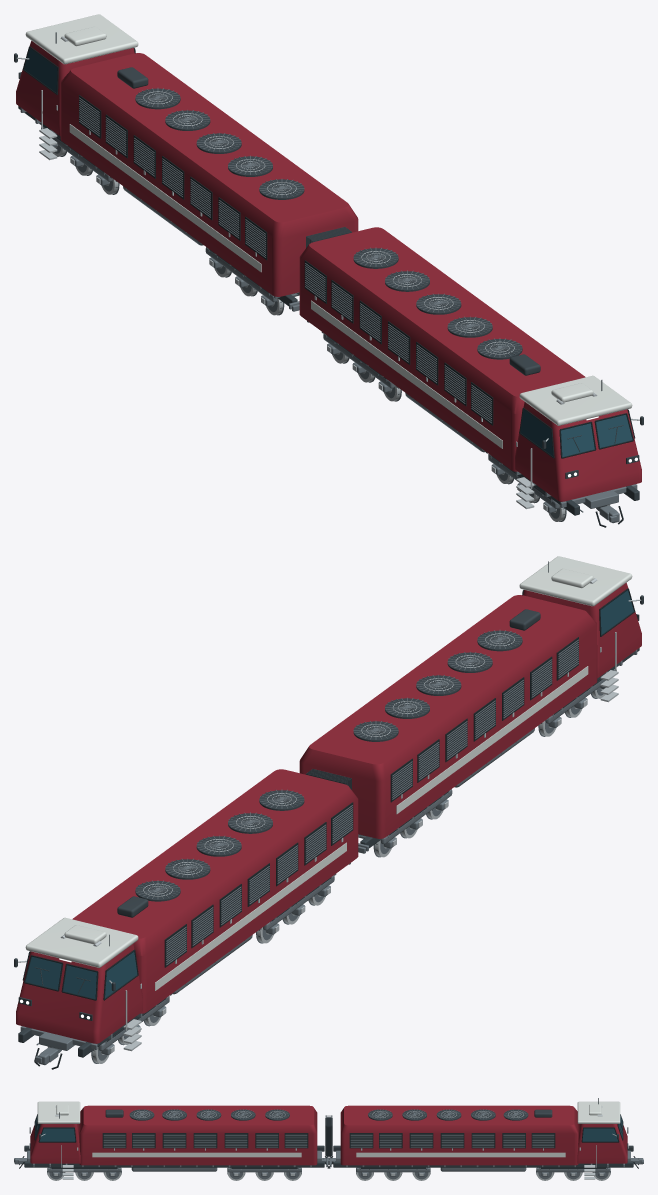
Rendered from diesel_mainline_2section.glb.
The picture shows the model from 3 angles, top to bottom: view 1: azimuth 30°, elevation 25°; view 2: azimuth 150°, elevation 25°; view 3: azimuth 270°, elevation 25°; orthographic projection. The views are drawn at different scales.
Parts seen in each view (by area): view 1: section_1_body, section_0_body, section_0_side_panels, section_1_side_panels, section_0_cab_shell, section_0_roof_services, section_1_roof_services, section_1_cab_roof, section_0_cab_roof, section_1_cab_shell, section_0_cab_glazing, section_0_cab_details (+4 smaller); view 2: section_0_body, section_1_body, section_0_side_panels, section_1_side_panels, section_1_cab_shell, section_1_roof_services, section_0_roof_services, section_0_cab_roof, section_1_cab_roof, section_0_cab_shell, section_1_cab_details, section_1_underframe (+4 smaller); view 3: section_0_body, section_1_body, section_0_side_panels, section_1_side_panels, section_0_roof_services, section_1_roof_services, section_0_cab_shell, section_1_cab_shell, section_0_underframe, section_1_underframe, section_0_cab_roof, section_1_cab_roof (+11 smaller).
Part boxes in pixels (x1=…): section_1_body: x1=60, y1=53, x2=358, y2=296; section_0_body: x1=299, y1=227, x2=585, y2=471; section_0_side_panels: x1=304, y1=260, x2=502, y2=448; section_1_side_panels: x1=69, y1=95, x2=267, y2=272; section_0_cab_shell: x1=515, y1=402, x2=641, y2=501; section_0_roof_services: x1=353, y1=247, x2=540, y2=509; section_1_roof_services: x1=39, y1=67, x2=304, y2=199; section_1_cab_roof: x1=25, y1=14, x2=138, y2=64; section_0_cab_roof: x1=519, y1=375, x2=632, y2=425; section_1_cab_shell: x1=16, y1=41, x2=134, y2=136; section_0_cab_glazing: x1=519, y1=407, x2=596, y2=458; section_0_cab_details: x1=516, y1=409, x2=643, y2=452; section_0_body: x1=299, y1=595, x2=597, y2=838; section_1_body: x1=72, y1=769, x2=358, y2=1013; section_0_side_panels: x1=390, y1=637, x2=588, y2=814; section_1_side_panels: x1=155, y1=802, x2=353, y2=990; section_1_cab_shell: x1=16, y1=944, x2=142, y2=1043; section_1_roof_services: x1=117, y1=789, x2=304, y2=1051; section_0_roof_services: x1=353, y1=609, x2=618, y2=741; section_0_cab_roof: x1=519, y1=556, x2=632, y2=606; section_1_cab_roof: x1=25, y1=917, x2=138, y2=967; section_0_cab_shell: x1=523, y1=583, x2=641, y2=678; section_1_cab_details: x1=14, y1=949, x2=141, y2=1000; section_1_underframe: x1=18, y1=846, x2=365, y2=1057; section_0_body: x1=79, y1=1105, x2=317, y2=1165; section_1_body: x1=340, y1=1105, x2=578, y2=1165; section_0_side_panels: x1=92, y1=1133, x2=308, y2=1157; section_1_side_panels: x1=349, y1=1133, x2=565, y2=1157; section_0_roof_services: x1=61, y1=1109, x2=289, y2=1179; section_1_roof_services: x1=368, y1=1109, x2=596, y2=1179; section_0_cab_shell: x1=30, y1=1124, x2=80, y2=1163; section_1_cab_shell: x1=577, y1=1124, x2=627, y2=1163; section_0_underframe: x1=24, y1=1145, x2=327, y2=1167; section_1_underframe: x1=330, y1=1145, x2=633, y2=1167; section_0_cab_roof: x1=37, y1=1101, x2=80, y2=1123; section_1_cab_roof: x1=577, y1=1101, x2=620, y2=1123.
Size of the model in its own units: 3.71 by 4.47 by 36.72.
